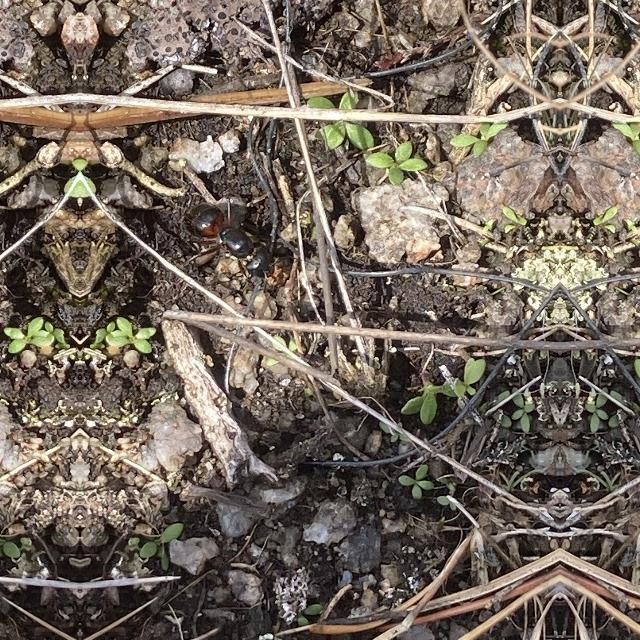Camponotus: (186, 189, 280, 291)
